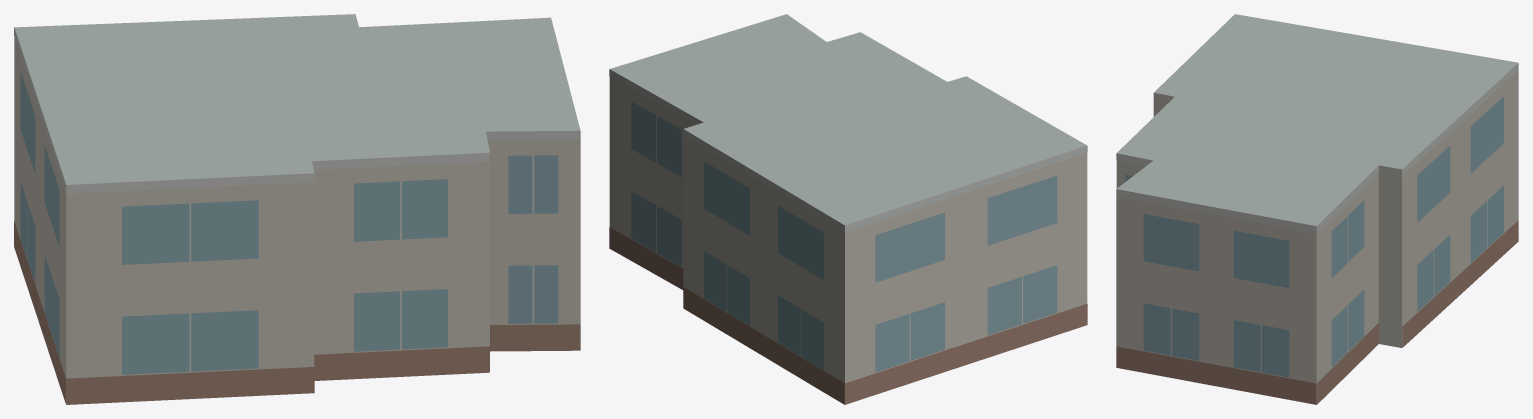
File: survey-upis-32780454.glb
3 views of the same model, side by side, from view 1: azimuth 30°, elevation 25°; view 2: azimuth 150°, elevation 25°; view 3: azimuth 270°, elevation 25° (orthographic). The views are drawn at different scales.
Visible parts, largest first — view 1: survey-upis-32780454.tmp; view 2: survey-upis-32780454.tmp; view 3: survey-upis-32780454.tmp.
Boxes of the visible parts, box(x1,y1,x2,y2) form: survey-upis-32780454.tmp: box(14, 14, 580, 404); survey-upis-32780454.tmp: box(609, 14, 1087, 404); survey-upis-32780454.tmp: box(1116, 14, 1518, 404).
Bounding box in the file's own units: 15.55 × 6.1 × 12.46.
